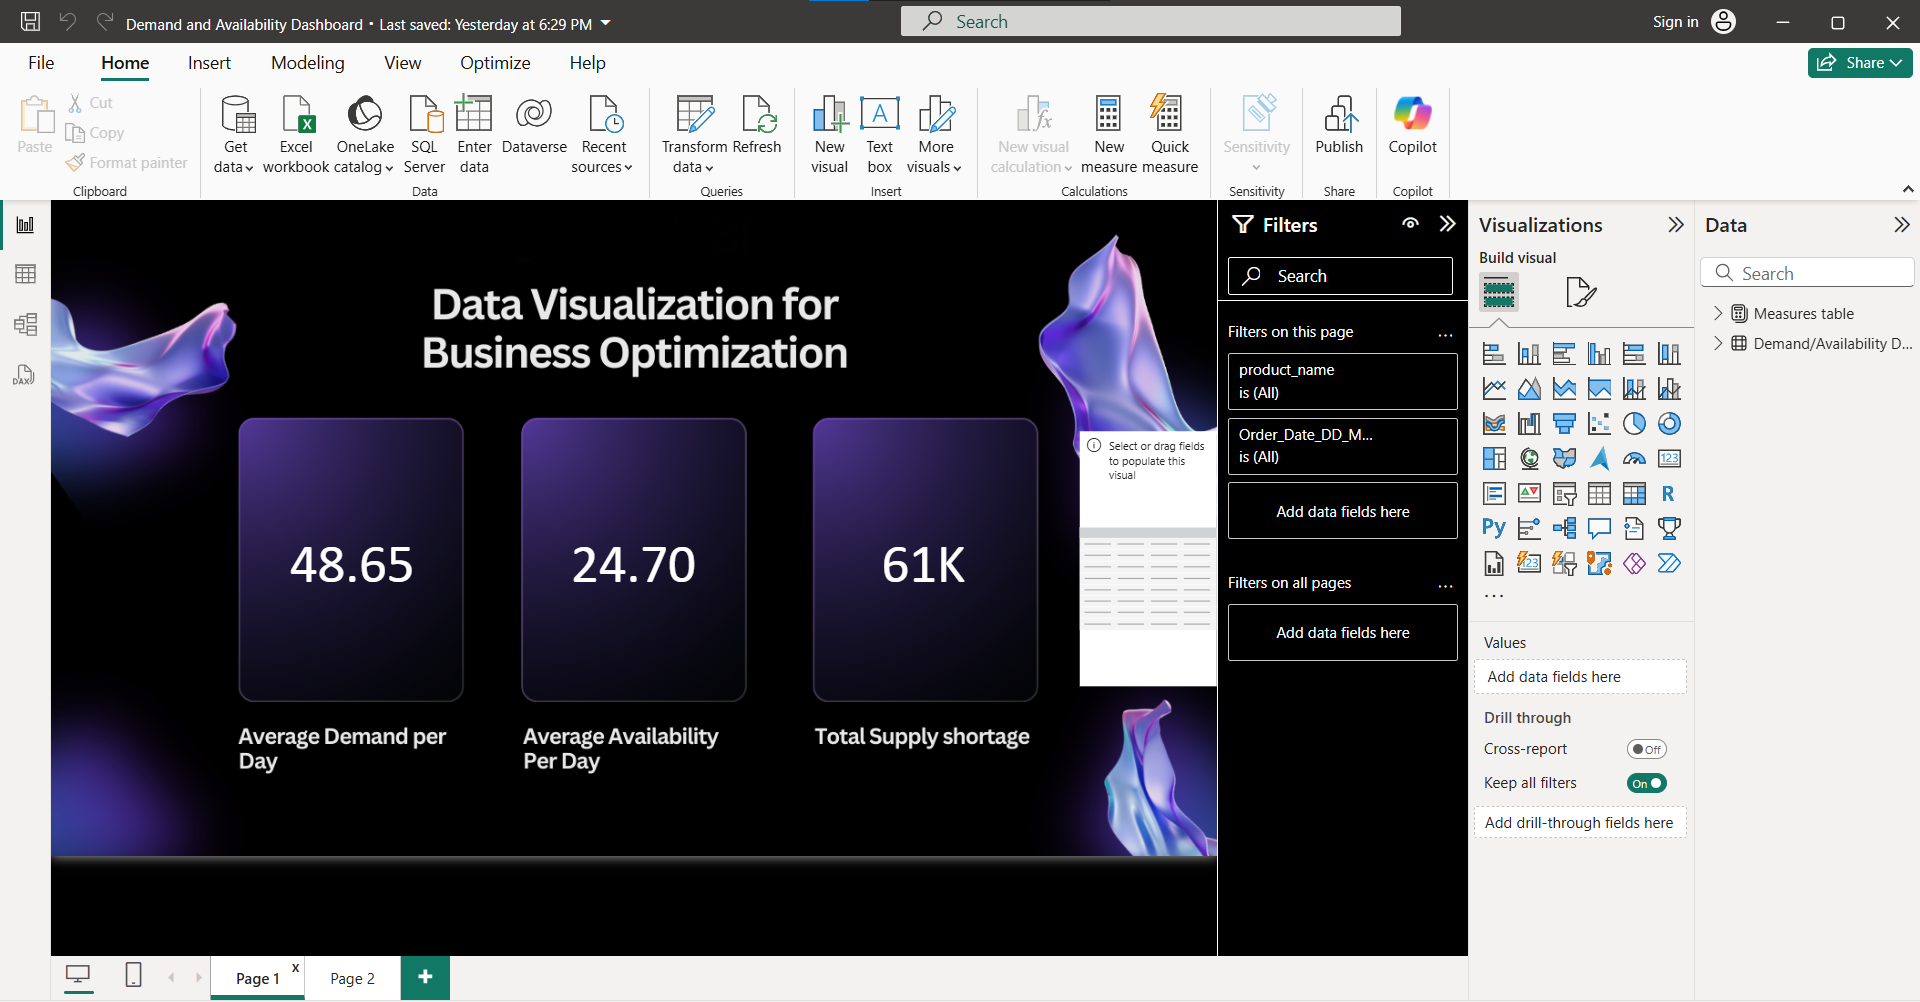

What the dashboard file says about the page in this screenshot:
{"tool":"powerbi","page":{"name":"Page 1","canvas":[1280,720],"ordinal":0},"visuals":[{"type":"card","fields":{"Values":["Measures table.Average demand per day"]},"box":[209.9,253.9,241.5,279.9],"z":0},{"type":"card","fields":{"Values":["Measures table.Average Availability Per Day"]},"box":[518.7,253.9,241.5,279.9],"z":1},{"type":"card","fields":{"Values":["Measures table.Total Supply Shortage"]},"box":[837.1,253.9,241.5,279.9],"z":2},{"type":"tableEx","box":[1130,253.9,150,279.9],"z":3}]}

Visuals, with their boxes on the page's 1280x720 design canvas (x1, y1, x2, y2). These are canvas units, not pixel positions in the 1920x1002 screenshot, which may show the page scaled, cropped or inside an application window:
card - Measures table.Average demand per day: left=210, top=254, right=451, bottom=534
card - Measures table.Average Availability Per Day: left=519, top=254, right=760, bottom=534
card - Measures table.Total Supply Shortage: left=837, top=254, right=1079, bottom=534
tableEx: left=1130, top=254, right=1280, bottom=534
